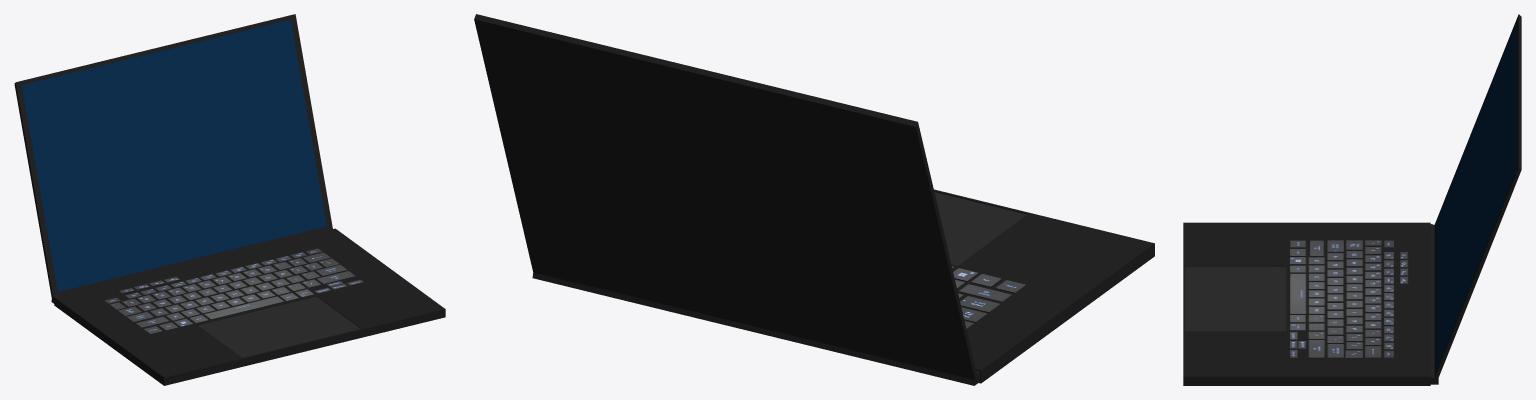
Rendered from Laptop(1).fbx.
3 views of the same model, side by side, from view 1: azimuth 30°, elevation 25°; view 2: azimuth 150°, elevation 25°; view 3: azimuth 270°, elevation 25° (orthographic). The views are drawn at different scales.
Parts seen in each view (by area): view 1: laptop; view 2: laptop; view 3: laptop.
Boxes of the visible parts, x1,y1,x2,y2 form: laptop: (14,14,445,385); laptop: (474,14,1154,385); laptop: (1183,14,1521,385).
Size of the model in its own units: 399 by 263 by 369.
Materials: 1 (1 with a texture image).
